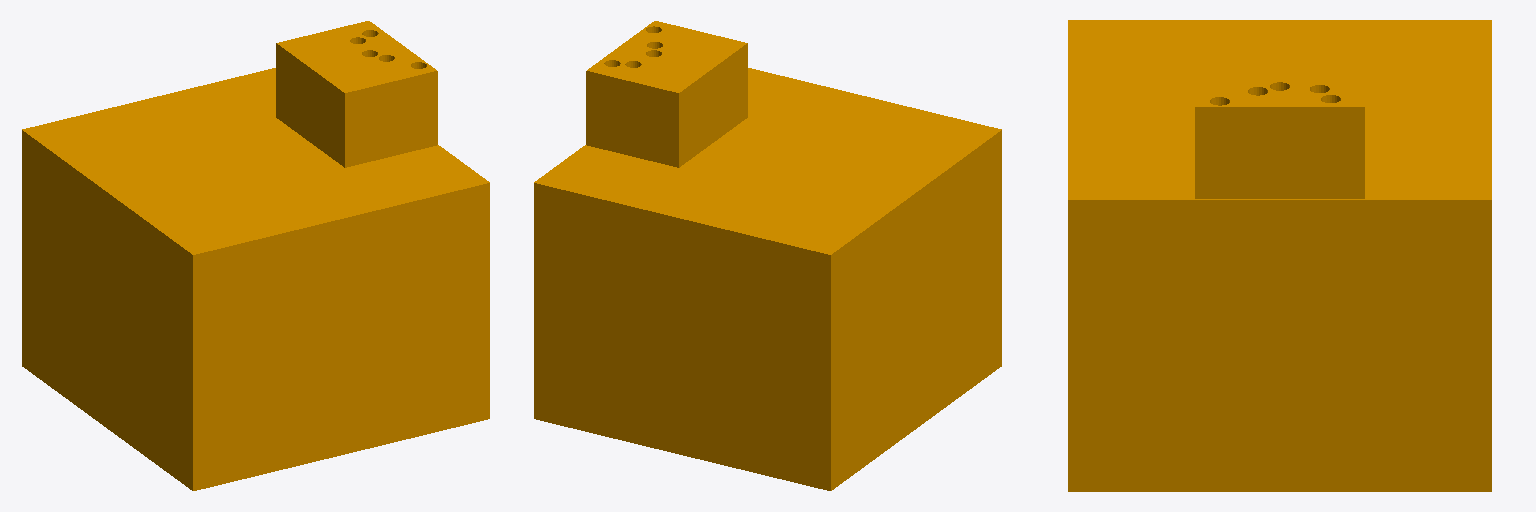
URDF robot description (box):
<?xml version="1.0" ?>

<robot name="box">

    <link name="box">
        <inertial>
            <mass value="0.1" />
            <inertia ixx="0.1" ixy="0"  ixz="0"
                    iyy="0.1" iyz="0"
                    izz="0.1" />
        </inertial> 
        <visual>
            <geometry>
                <mesh filename="package://hand_simulator/meshes/box.STL"/>
            </geometry>
            <origin rpy="0 0 0" xyz="0 0 0"/>
            <material name="white" />
        </visual>
        <collision>
            <geometry>
                <mesh filename="package://hand_simulator/meshes/box.STL"/>
            </geometry>
            <origin rpy="0 0 0" xyz="0 0 0"/>
        </collision> 
    </link>

    <gazebo reference="box">
      <material>Gazebo/Wood </material>
    </gazebo>
    <gazebo>
        <static>true</static>
    </gazebo>

</robot>

--- Facts derived from the render (not from the file) ---
3 views of the same robot in one strip: view 1: azimuth 30°, elevation 25°; view 2: azimuth 150°, elevation 25°; view 3: azimuth 270°, elevation 25° (orthographic).
Model box with 1 links and 0 joints (none), rooted at box, posed all joints at 0.
Visible links, largest first — view 1: box; view 2: box; view 3: box.
Link boxes in pixels (box(x1,y1,x2,y2)): box: box(22, 21, 489, 490); box: box(534, 21, 1001, 490); box: box(1068, 20, 1491, 491).
Bounding box of the posed robot: 0.5 × 0.5 × 0.5 m (x, y, z).
1 mesh visuals loaded from 1 distinct referenced files (1 binary STL).